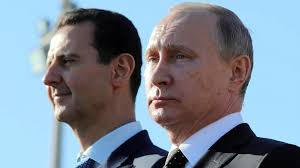middle_eastern_male: (45, 22, 126, 125)
